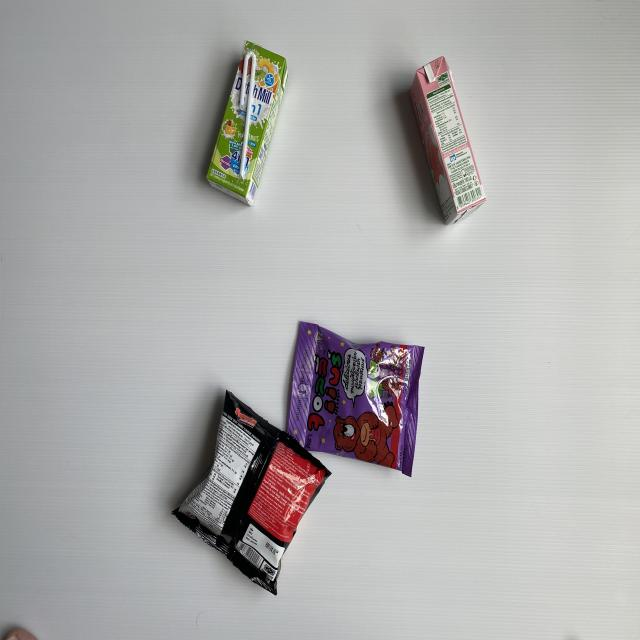candy: (285, 320, 426, 479)
milk: (204, 37, 290, 206), (409, 54, 487, 227)
snack: (172, 387, 332, 596)
